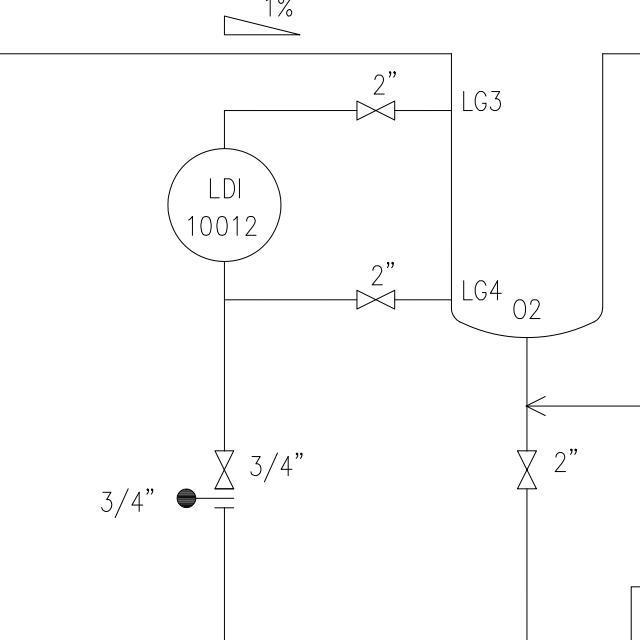GV: (351, 97, 400, 124), (352, 285, 400, 312), (212, 446, 236, 495), (514, 448, 540, 493)
